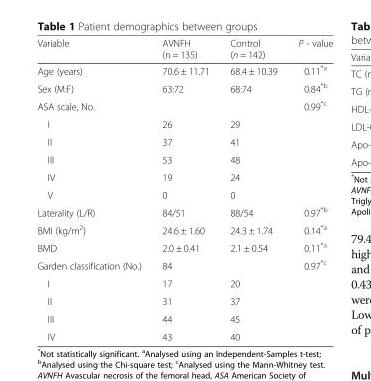table: (36, 37, 332, 341)
table column: (36, 37, 151, 341), (151, 37, 219, 341), (219, 37, 287, 341), (287, 37, 332, 341)
table column header: (36, 37, 332, 61)
table row: (36, 37, 332, 61), (36, 96, 332, 115), (36, 255, 332, 274), (36, 78, 332, 96), (36, 132, 332, 150), (36, 150, 332, 168), (36, 202, 332, 220), (36, 220, 332, 238), (36, 274, 332, 292), (36, 309, 332, 327), (36, 61, 332, 78), (36, 115, 332, 132), (36, 168, 332, 185), (36, 185, 332, 202), (36, 238, 332, 255), (36, 292, 332, 309), (36, 327, 332, 341)
